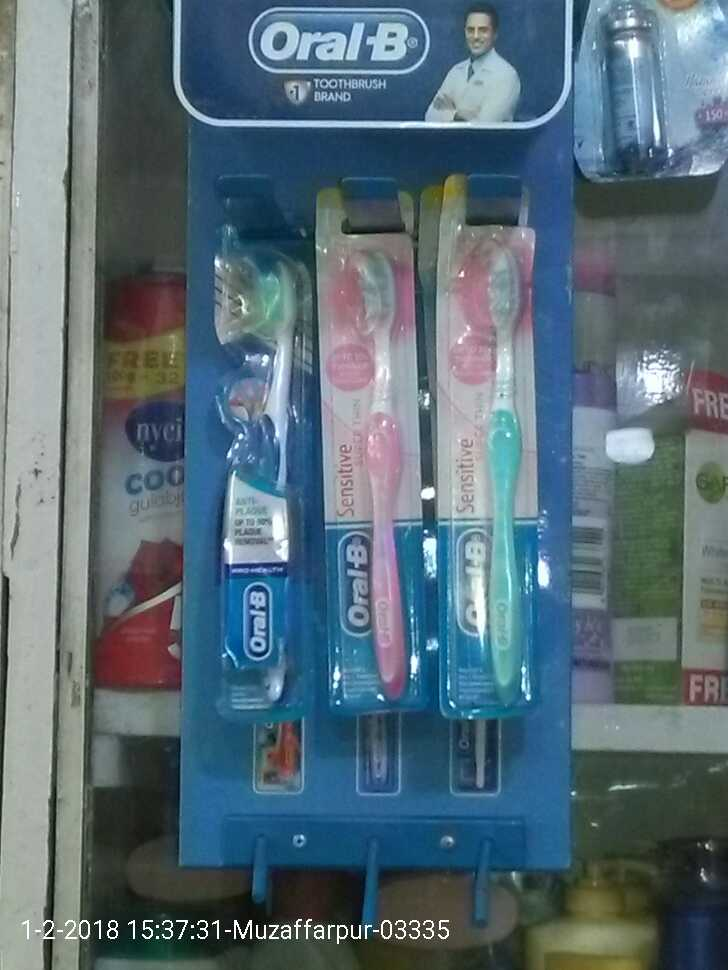oralb: (202, 229, 320, 713), (445, 197, 551, 715), (329, 217, 431, 718)
